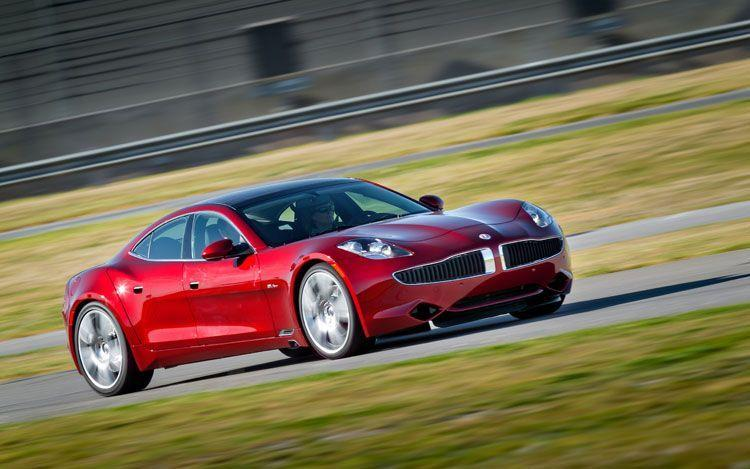car: (61, 173, 578, 396)
